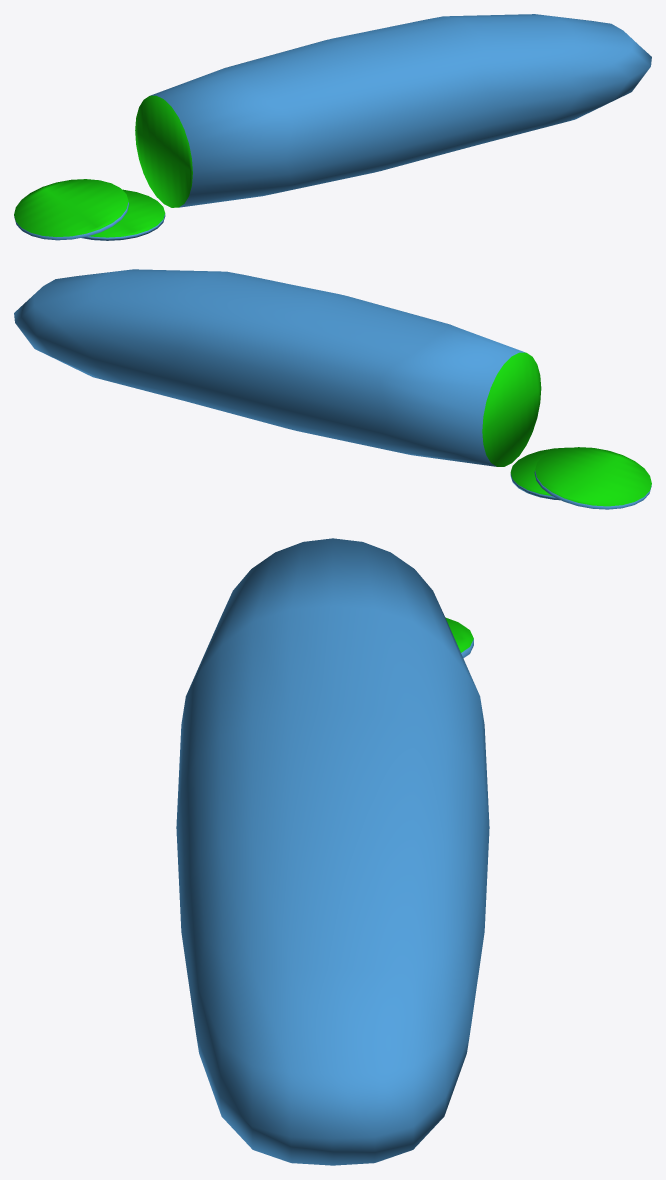
The model's file is Cucumber.fbx.
3 renders of one model, top to bottom at view 1: azimuth 30°, elevation 25°; view 2: azimuth 150°, elevation 25°; view 3: azimuth 270°, elevation 25°, orthographic. The views are drawn at different scales.
Parts seen in each view (by area): view 1: Cube; view 2: Cube; view 3: Cube.
Boxes of the visible parts, box(x1,y1,x2,y2) form: Cube: box(14, 14, 651, 240); Cube: box(14, 269, 651, 509); Cube: box(176, 538, 489, 1165).
Size of the model in its own units: 0.3399 by 0.0617 by 0.075.
